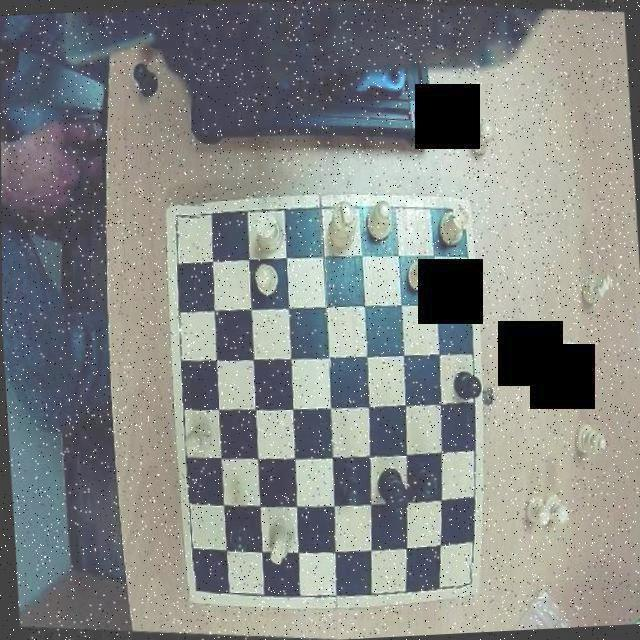chess-table-corners: (168, 198, 202, 232), (436, 191, 469, 223), (186, 569, 217, 600), (452, 564, 479, 594)
